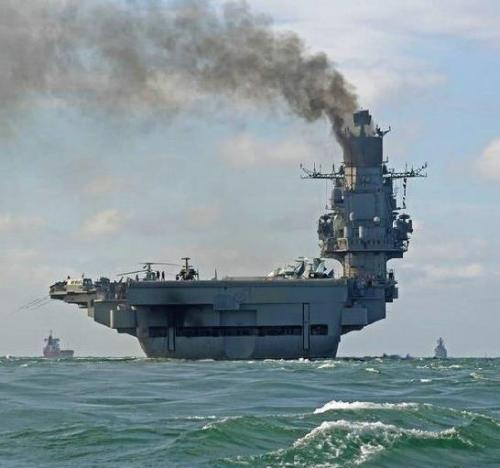smoke: (1, 1, 382, 154)
